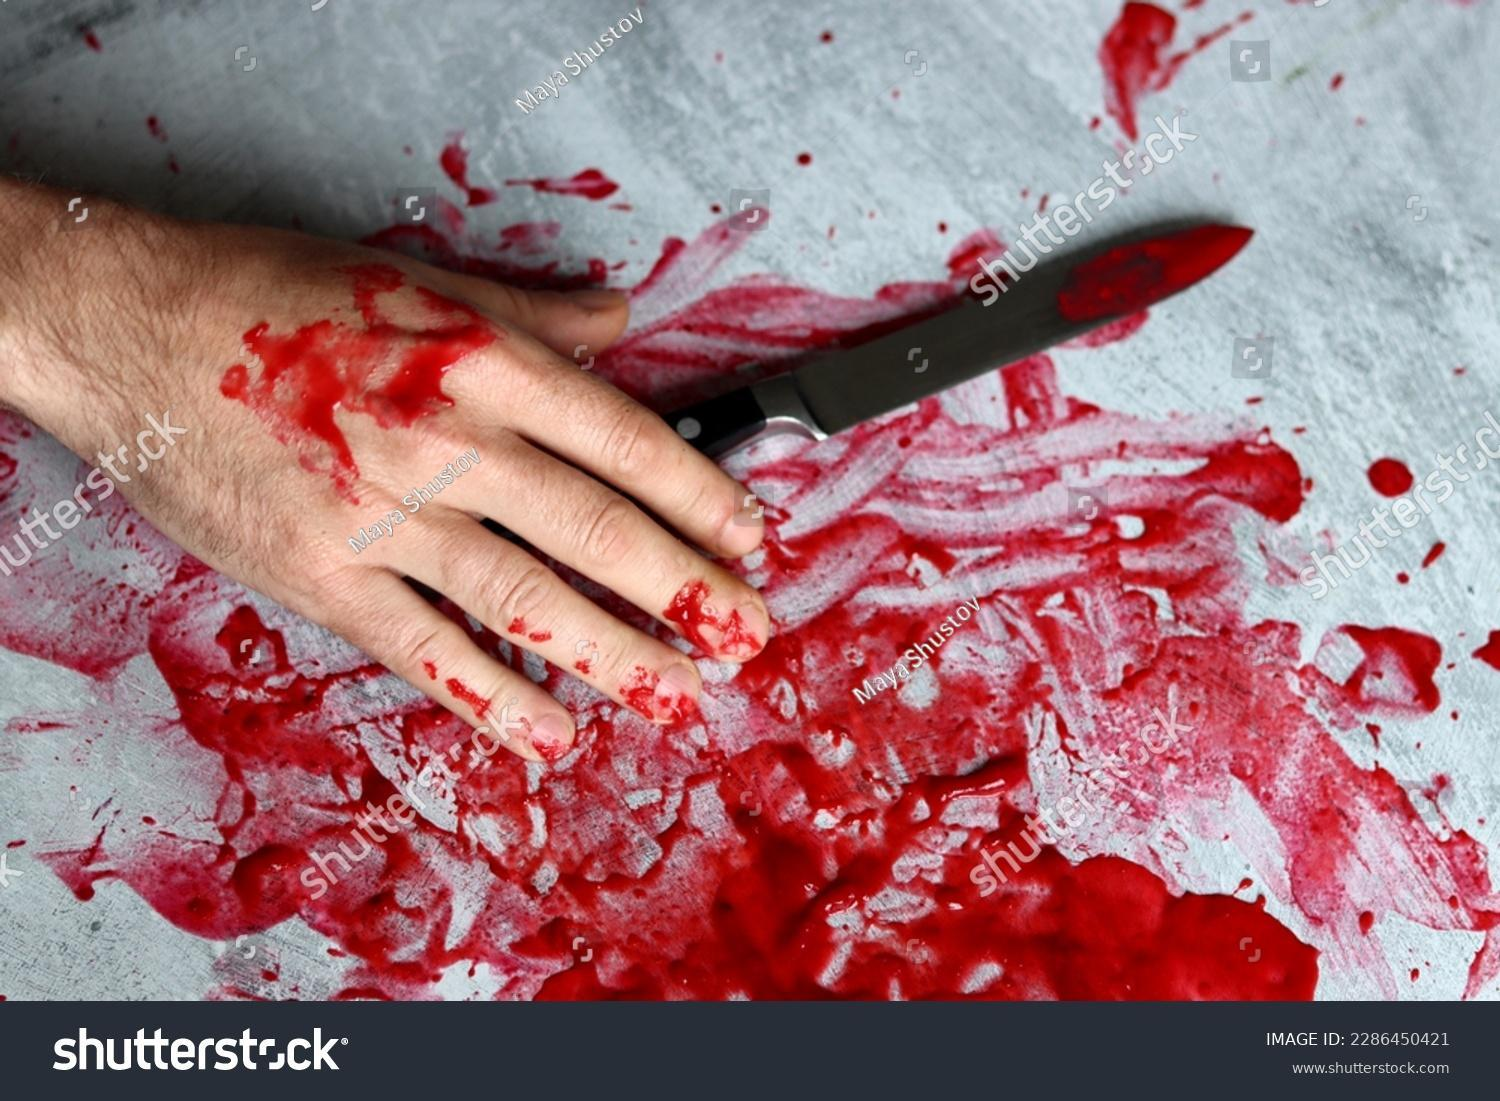Fire: (0, 357, 1500, 1001), (596, 230, 1003, 411), (218, 262, 498, 502), (363, 129, 629, 288), (1101, 0, 1255, 140), (1057, 224, 1255, 319), (628, 191, 770, 297), (664, 578, 763, 661), (504, 165, 631, 210), (445, 679, 526, 742), (618, 665, 698, 725), (0, 408, 31, 524), (1069, 308, 1149, 346), (1370, 457, 1417, 496), (529, 731, 567, 762), (508, 617, 550, 642), (1477, 630, 1500, 670), (144, 113, 167, 140), (1425, 542, 1449, 566), (1396, 502, 1418, 525), (82, 27, 101, 50), (572, 662, 590, 677), (420, 661, 436, 679), (1401, 572, 1413, 584)
